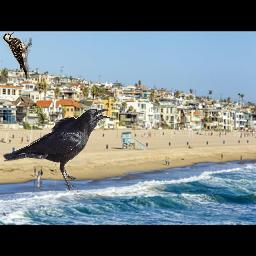Crow: (3, 108, 111, 192)
Woodpecker: (3, 32, 32, 80)
